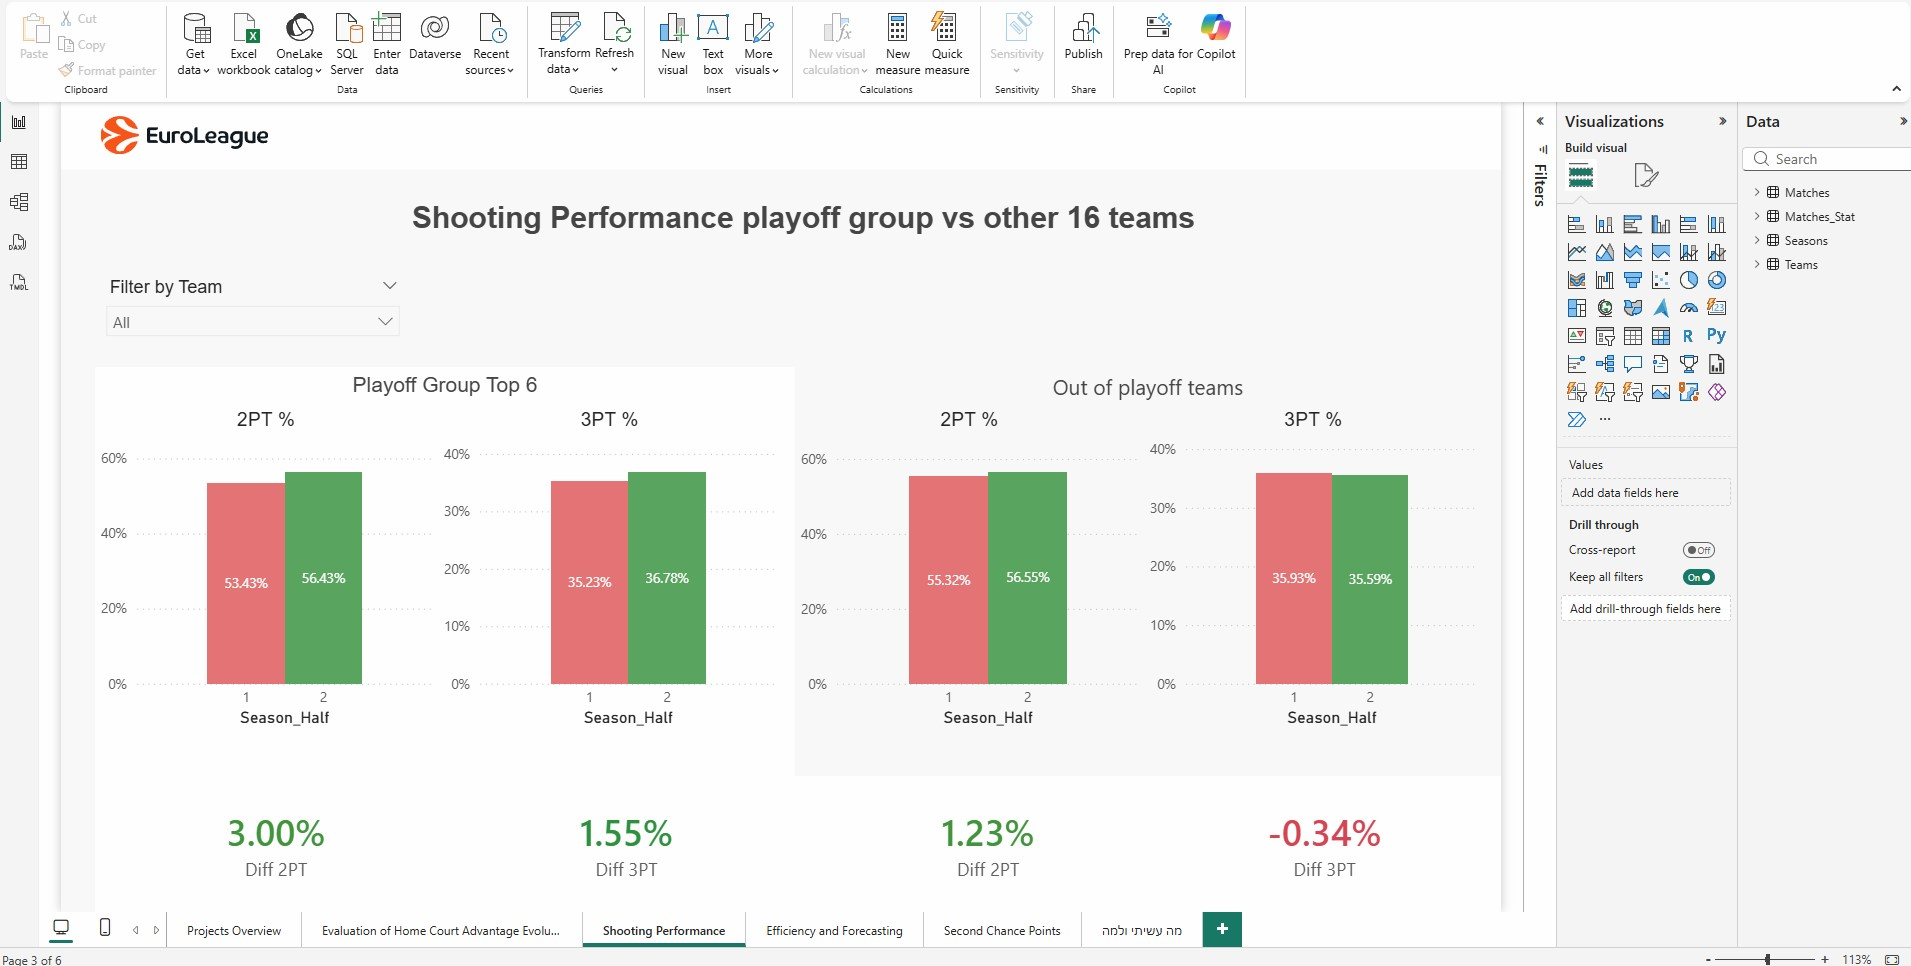

This screenshot's page, from the dashboard's own definition file:
{"tool":"powerbi","page":{"name":"Shooting Performance","canvas":[1280,720],"ordinal":2},"visuals":[{"type":"shape","box":[30.2,599.1,1249.8,120.9],"z":0},{"type":"textbox","box":[652.5,235.4,627.5,364.3],"z":1000},{"type":"textbox","box":[30.4,235.4,622.1,364.3],"z":2000},{"type":"clusteredColumnChart","title":"2PT %","fields":{"Category":["Matches.Season_Half"],"Y":["Matches_Stat.2PT %"],"Series":["Matches.Season_Half"]},"box":[30.4,271.8,304.3,288.1],"z":3000},{"type":"clusteredColumnChart","title":"3PT %","fields":{"Category":["Matches.Season_Half"],"Series":["Matches.Season_Half"],"Y":["Matches_Stat.3PT %"]},"box":[334.7,271.8,305.3,288.1],"z":4000},{"type":"clusteredColumnChart","title":"2PT %","fields":{"Category":["Matches.Season_Half"],"Y":["Matches_Stat.2PT %"],"Series":["Matches.Season_Half"]},"box":[652.2,271.8,310.4,288.1],"z":5000},{"type":"clusteredColumnChart","title":"3PT %","fields":{"Category":["Matches.Season_Half"],"Series":["Matches.Season_Half"],"Y":["Matches_Stat.3PT %"]},"box":[962.5,271.8,301.2,288.1],"z":6000},{"type":"shape","box":[0,0,1280,60],"z":7000},{"type":"textbox","box":[39.8,86.3,1240.2,47.3],"z":8000},{"type":"image","box":[29.9,12.5,158.5,34],"z":9000},{"type":"cardVisual","fields":{"Data":["Matches.Diff 2PT"]},"box":[30.6,599.2,322.8,120.8],"z":10000},{"type":"cardVisual","fields":{"Data":["Matches.Diff 2PT"]},"box":[682.7,599.1,283.6,120.9],"z":11000},{"type":"cardVisual","fields":{"Data":["Matches.Diff 3PT"]},"box":[965.8,599.2,314.5,120.8],"z":12000},{"type":"cardVisual","fields":{"Data":["Matches.Diff 3PT"]},"box":[353.4,599.2,298.8,120.8],"z":13000},{"type":"slicer","fields":{"Values":["Matches_Stat.Slicer_Group","Matches_Stat.Slicer_Team"]},"box":[30.4,151.1,281,61.9],"z":14000}]}

Visuals, with their boxes on the page's 1280x720 design canvas (x1, y1, x2, y2). These are canvas units, not pixel positions in the 1911x966 screenshot, which may show the page scaled, cropped or inside an application window:
shape: 30, 599, 1280, 720
textbox: 652, 235, 1280, 600
textbox: 30, 235, 652, 600
"2PT %" clusteredColumnChart: 30, 272, 335, 560
"3PT %" clusteredColumnChart: 335, 272, 640, 560
"2PT %" clusteredColumnChart: 652, 272, 963, 560
"3PT %" clusteredColumnChart: 962, 272, 1264, 560
shape: 0, 0, 1280, 60
textbox: 40, 86, 1280, 134
image: 30, 12, 188, 46
cardVisual - Matches.Diff 2PT: 31, 599, 353, 720
cardVisual - Matches.Diff 2PT: 683, 599, 966, 720
cardVisual - Matches.Diff 3PT: 966, 599, 1280, 720
cardVisual - Matches.Diff 3PT: 353, 599, 652, 720
slicer - Matches_Stat.Slicer_Group x Matches_Stat.Slicer_Team: 30, 151, 311, 213
